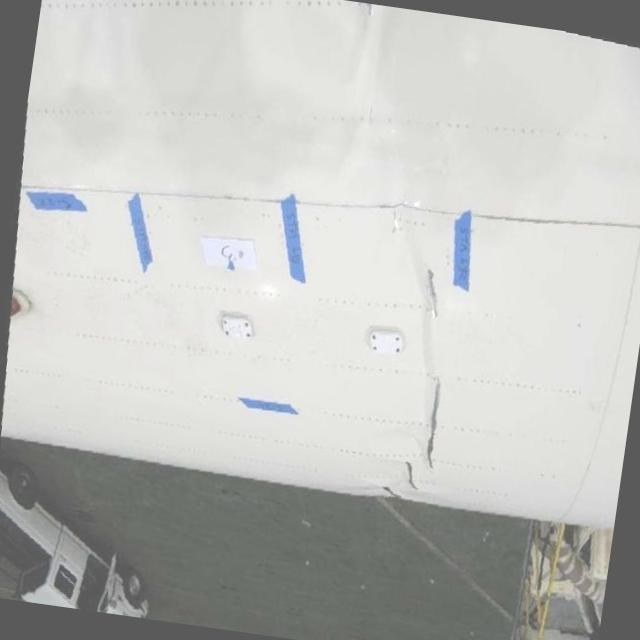crack: (419, 376, 448, 474), (420, 264, 448, 320), (398, 458, 422, 493)
